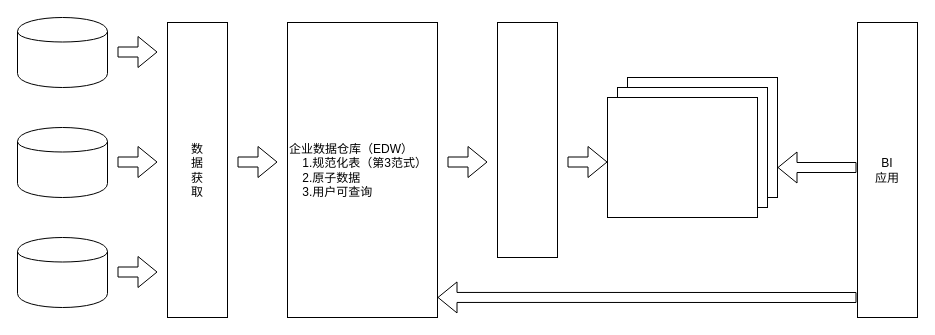
The diagram is 935 pixels wide and 335 high, and some of its shapes have lost their labels. Here are the shapes that lost their labels. From the top down, the centre of each, then its label:
At (527,140): "数 据 发 布".
At (682,157): "数据集市： 1.维度 2.通常被汇总 3.同时是部门级".
